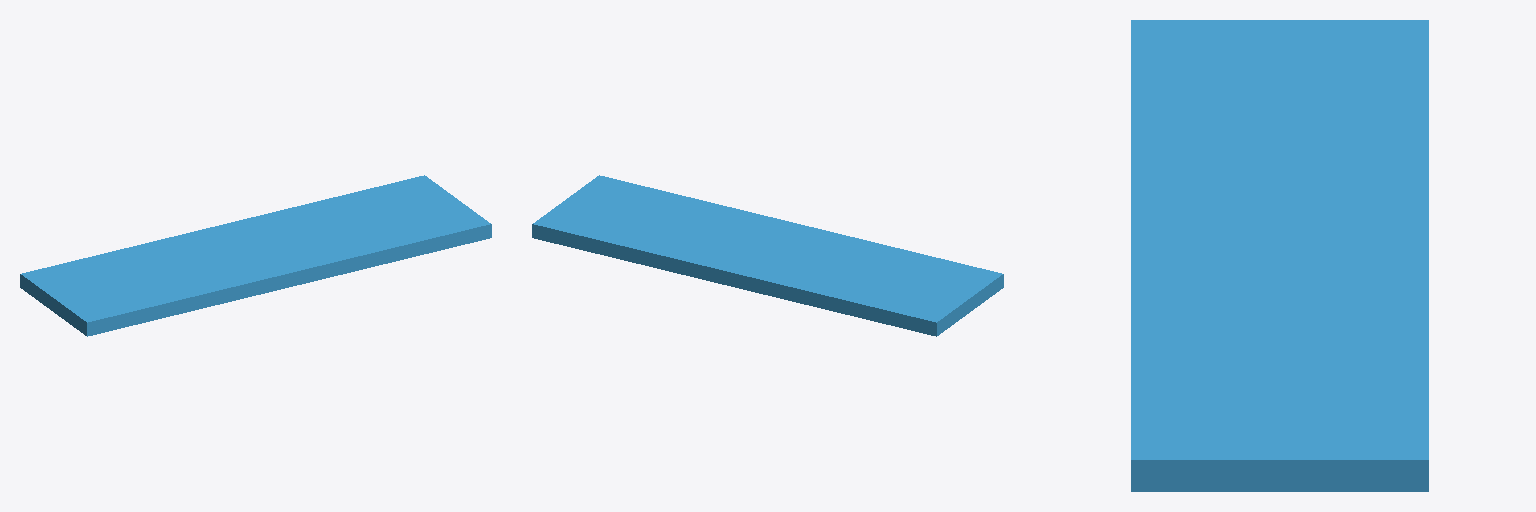
URDF robot description (cylinder_53):
    
    <robot name="cylinder_53">
        <link name="cylinder_53">    
            <fem>
                <origin rpy="0.0 0.0 0.0" xyz="0 0 0" />
                <density value="100" />
                <youngs value="11290"/>
                <poissons value="0.3" />
                <damping value="0.0" />
                <attachDistance value="0.01" />
                <tetmesh filename="[local-path]/sim_data/Custom/Custom_mesh/multi_cylinder_10kPa/cylinder_53.tet" />
                <scale value="0.5"/>
            </fem>
        </link>

        <link name="fix_frame">
            <visual>
                <origin xyz="0.0 0.0 10.067808059629472"/>
                <geometry>
                    <box size="0.15 0.042867215051647145 0.005"/>
                </geometry>
            </visual>
            <collision>
                <origin xyz="0.0 0.0 0.06780805962947266"/>
                <geometry>
                    <box size="0.15 0.042867215051647145 0.005"/>
                </geometry>
            </collision>
            <inertial>
                <mass value="500000"/>
                <inertia ixx="0.05" ixy="0.0" ixz="0.0" iyy="0.05" iyz="0.0" izz="0.05"/>
            </inertial>
        </link>
        
        <joint name = "attach" type = "fixed">
            <origin xyz = "0.0 0.0 0.0" rpy = "0 0 0"/>
            <parent link ="cylinder_53"/>
            <child link = "fix_frame"/>
        </joint>  




    </robot>
    

--- Facts derived from the render (not from the file) ---
Views: 3 orthographic renders of the robot side by side, from view 1: azimuth 30°, elevation 25°; view 2: azimuth 150°, elevation 25°; view 3: azimuth 270°, elevation 25°.
Robot: cylinder_53 — 2 links, 1 joints (1 fixed); root link cylinder_53; default pose: all joints at 0.
Links seen in each view (by area): view 1: fix_frame; view 2: fix_frame; view 3: fix_frame.
Boxes of the visible links, x1,y1,x2,y2 form: fix_frame: [20, 175, 491, 336]; fix_frame: [532, 175, 1003, 336]; fix_frame: [1131, 20, 1428, 491].
Bounding box of the posed robot: 0.15 × 0.0429 × 0.005 m (x, y, z).
Geometry: primitives only (box / cylinder / sphere), no mesh files.